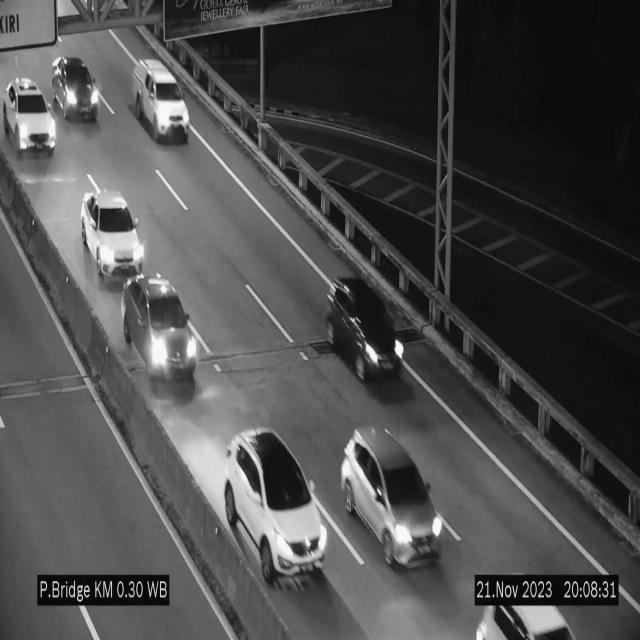Car: (224, 430, 328, 587), (341, 425, 447, 566), (123, 274, 200, 388), (326, 274, 406, 380), (81, 188, 145, 280), (133, 60, 189, 142), (46, 54, 104, 129), (4, 77, 56, 156), (475, 605, 585, 640)
